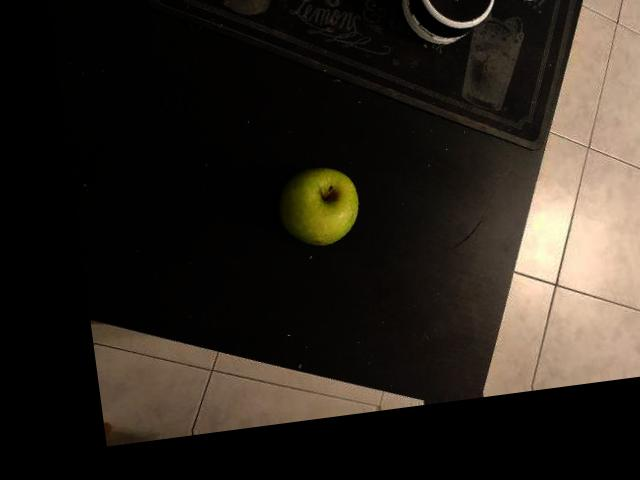apple: (248, 150, 379, 266)
